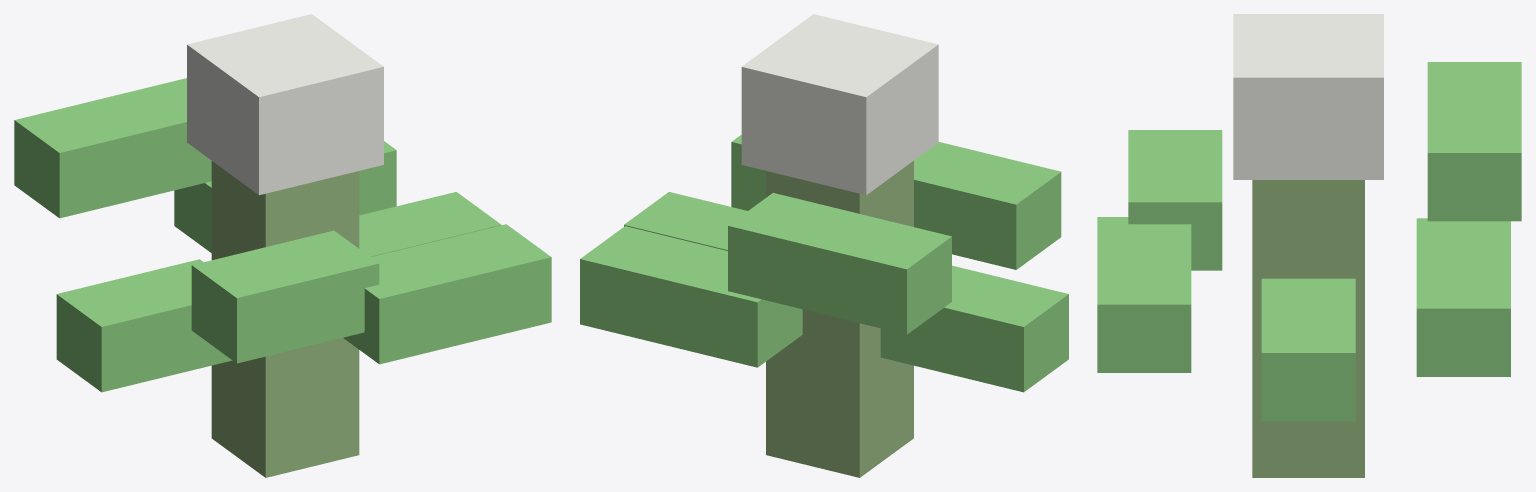
The model's file is Prop_Herb_AMF_Pawmint_V4.glb.
3 renders of one model, left to right at view 1: azimuth 30°, elevation 25°; view 2: azimuth 150°, elevation 25°; view 3: azimuth 270°, elevation 25°, orthographic. The views are drawn at different scales.
Parts seen in each view (by area): view 1: Prop_Herb_AMF_Pawmint_V4; view 2: Prop_Herb_AMF_Pawmint_V4; view 3: Prop_Herb_AMF_Pawmint_V4.
Part boxes in pixels (x1,y1,x2,y2): Prop_Herb_AMF_Pawmint_V4: (14,14,551,477); Prop_Herb_AMF_Pawmint_V4: (580,14,1068,477); Prop_Herb_AMF_Pawmint_V4: (1097,14,1521,477).
Bounding box in the file's own units: 0.2561 × 0.2393 × 0.2255.
